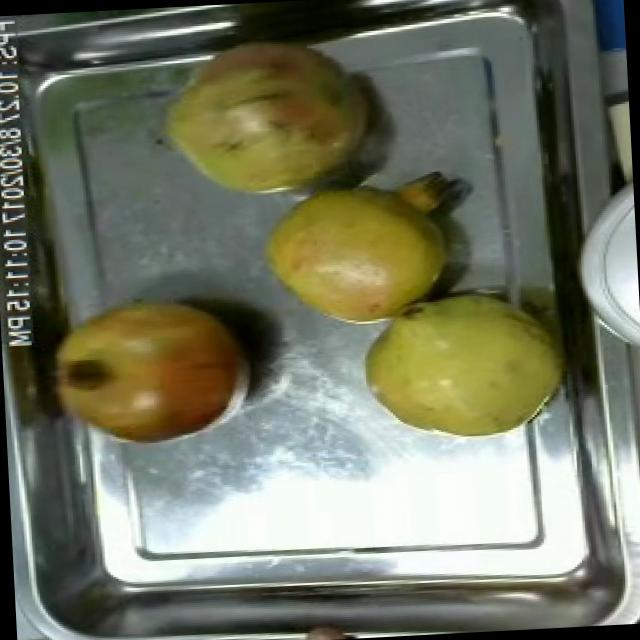fruit: (136, 26, 394, 221), (346, 278, 572, 450), (243, 170, 467, 340), (33, 286, 262, 452), (596, 74, 636, 233)
